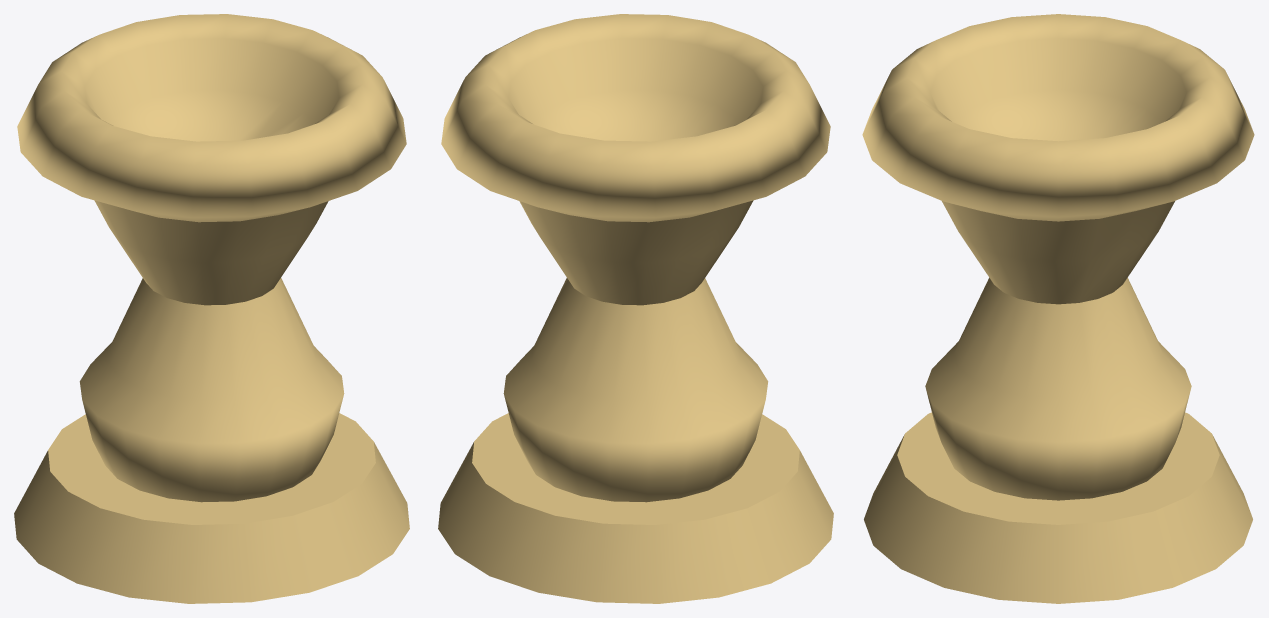
The model's file is Pottery 3_broken.fbx.
The picture shows the model from 3 angles, left to right: view 1: azimuth 30°, elevation 25°; view 2: azimuth 150°, elevation 25°; view 3: azimuth 270°, elevation 25°; orthographic projection.
Parts seen in each view (by area): view 1: pTorus1.003, pTorus1.001, pTorus1.002, pTorus1.004; view 2: pTorus1.003, pTorus1.001, pTorus1.002, pTorus1.004; view 3: pTorus1.003, pTorus1.001, pTorus1.002, pTorus1.004.
Part boxes in pixels (left/top/right/bottom): pTorus1.003: left=17, top=14, right=406, bottom=222; pTorus1.001: left=14, top=413, right=409, bottom=603; pTorus1.002: left=79, top=278, right=344, bottom=502; pTorus1.004: left=94, top=200, right=328, bottom=305; pTorus1.003: left=441, top=14, right=830, bottom=222; pTorus1.001: left=438, top=413, right=833, bottom=603; pTorus1.002: left=503, top=278, right=768, bottom=502; pTorus1.004: left=519, top=200, right=753, bottom=305; pTorus1.003: left=862, top=14, right=1254, bottom=221; pTorus1.001: left=864, top=412, right=1252, bottom=603; pTorus1.002: left=925, top=277, right=1191, bottom=500; pTorus1.004: left=942, top=201, right=1174, bottom=304.
Bounding box in the file's own units: 13315 × 16243 × 13065.
